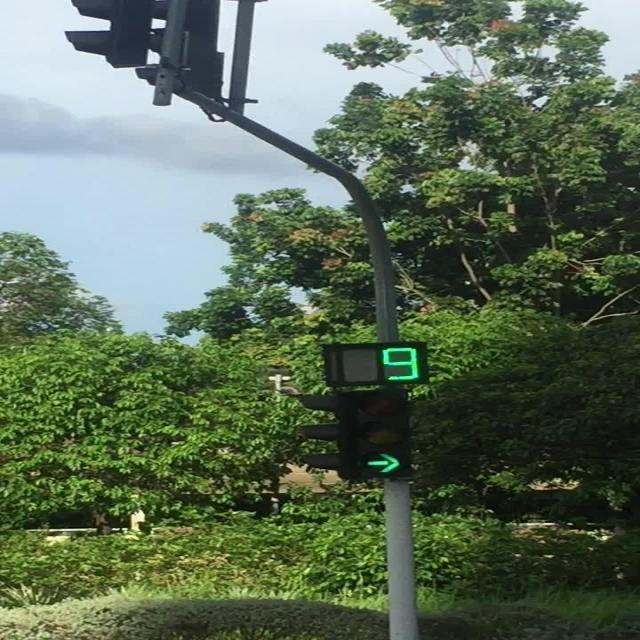green_light: (358, 388, 410, 476)
